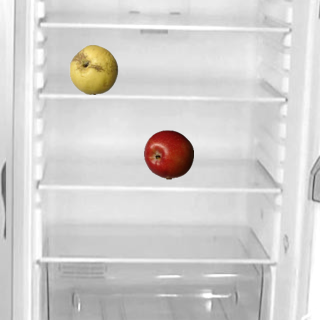Apple Braeburn: (143, 129, 193, 179)
Apple Golden 1: (68, 44, 118, 94)
